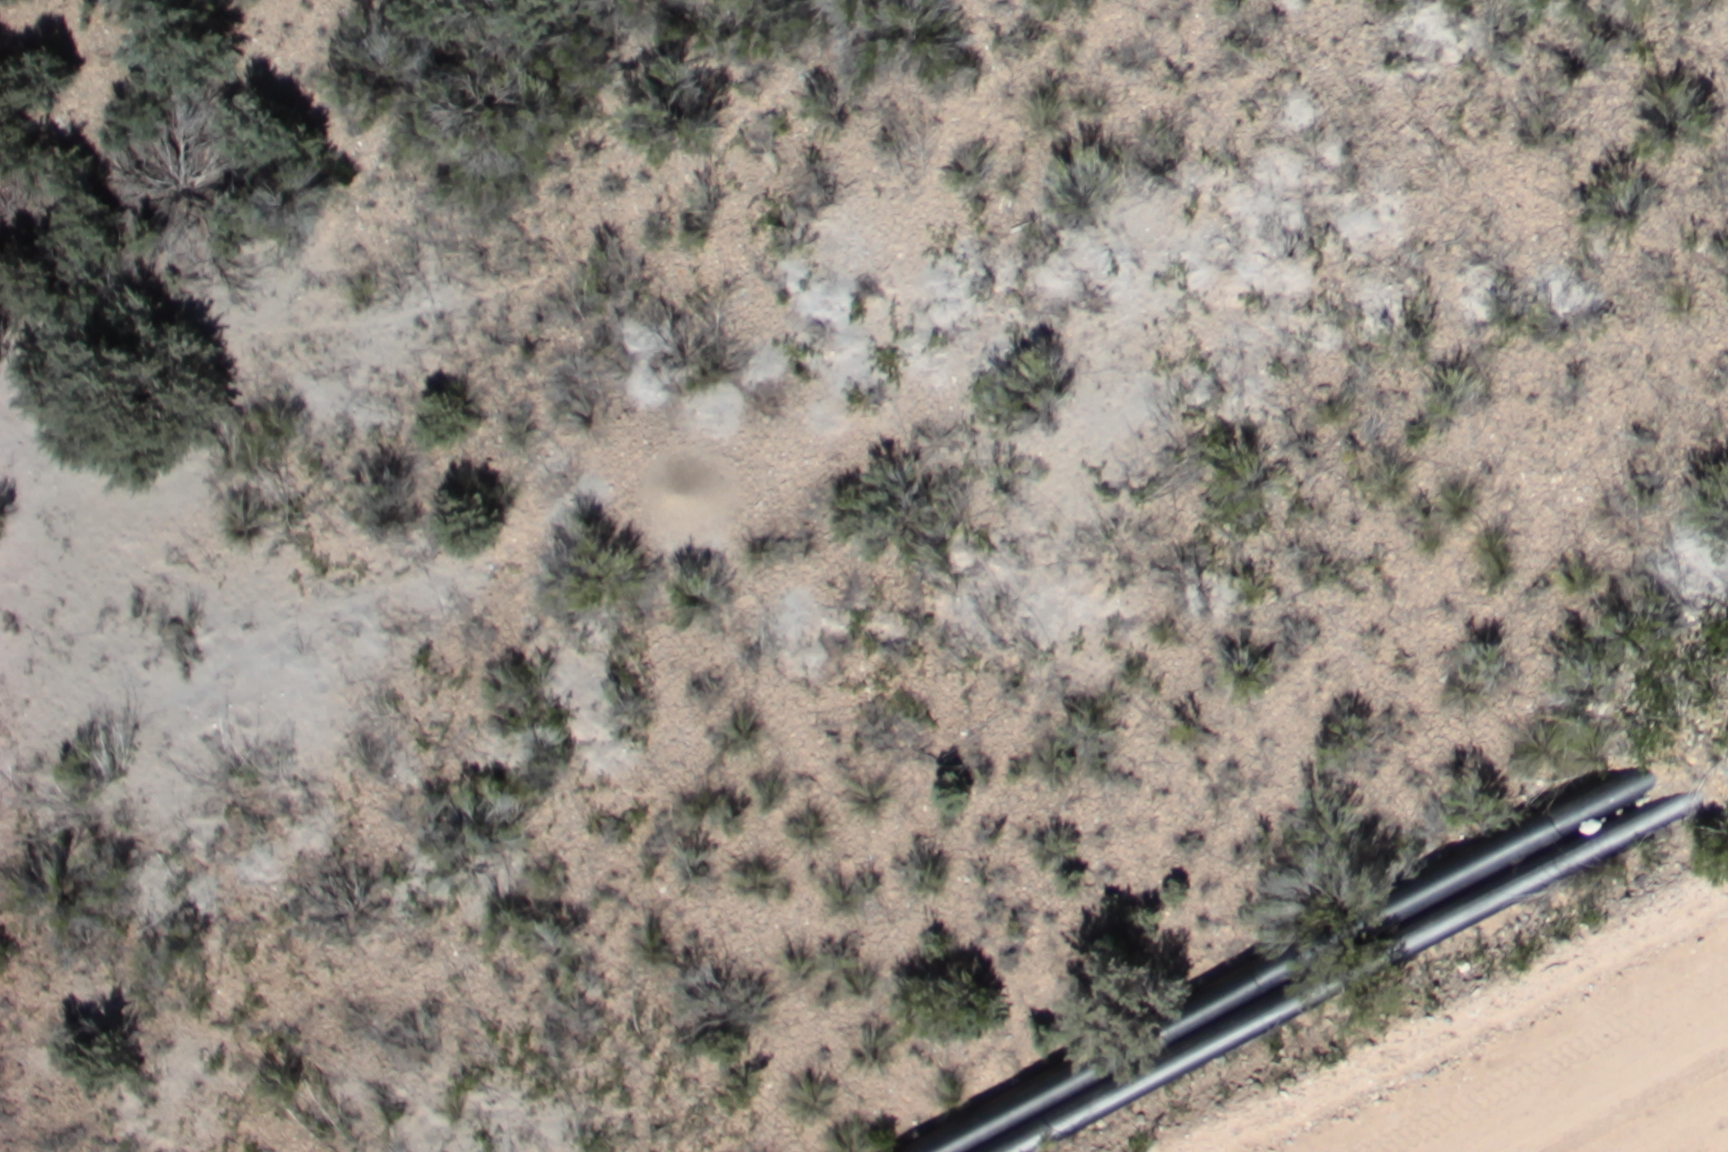burrow: (627, 441, 750, 552)
